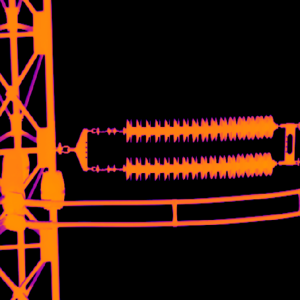insulator: (121, 113, 277, 141), (122, 151, 275, 179)
